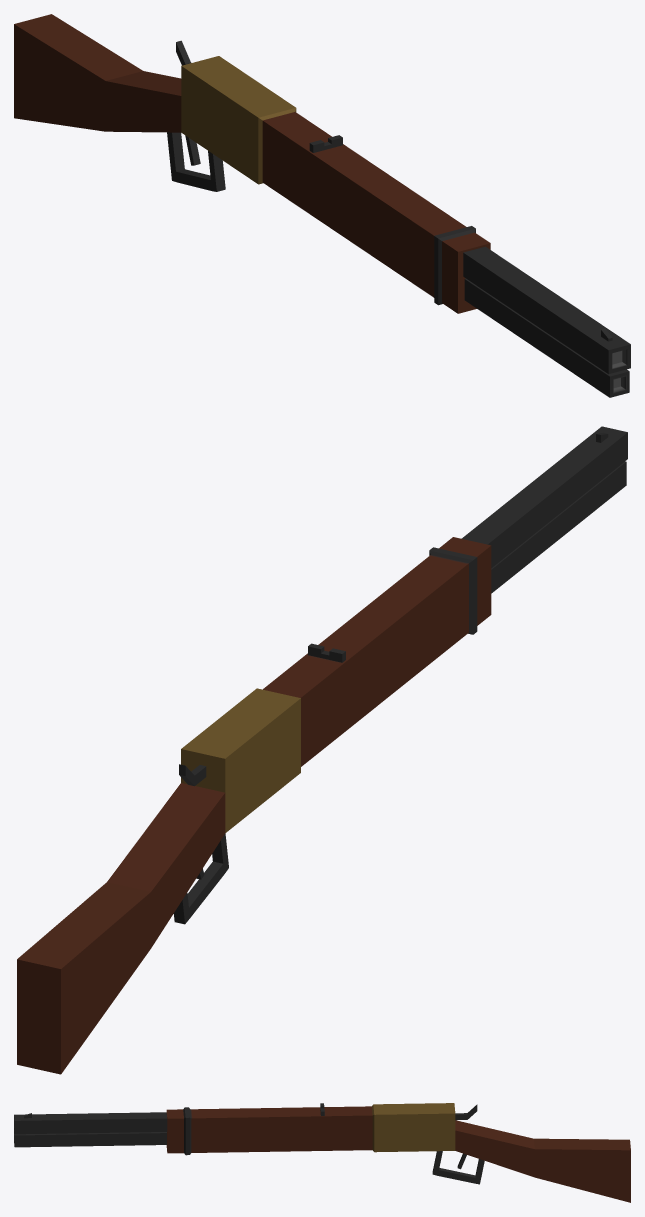
Rendered from rifle.fbx.
3 renders of one model, top to bottom at view 1: azimuth 30°, elevation 25°; view 2: azimuth 150°, elevation 25°; view 3: azimuth 270°, elevation 25°, orthographic. The views are drawn at different scales.
Visible parts, largest first — view 1: rifle; view 2: rifle; view 3: rifle.
Part boxes in pixels (box(x1,y1,x2,y2)): rifle: box(14, 14, 630, 397); rifle: box(17, 426, 627, 1074); rifle: box(14, 1103, 630, 1202).
Size of the model in its own units: 9.1 by 22.16 by 130.
